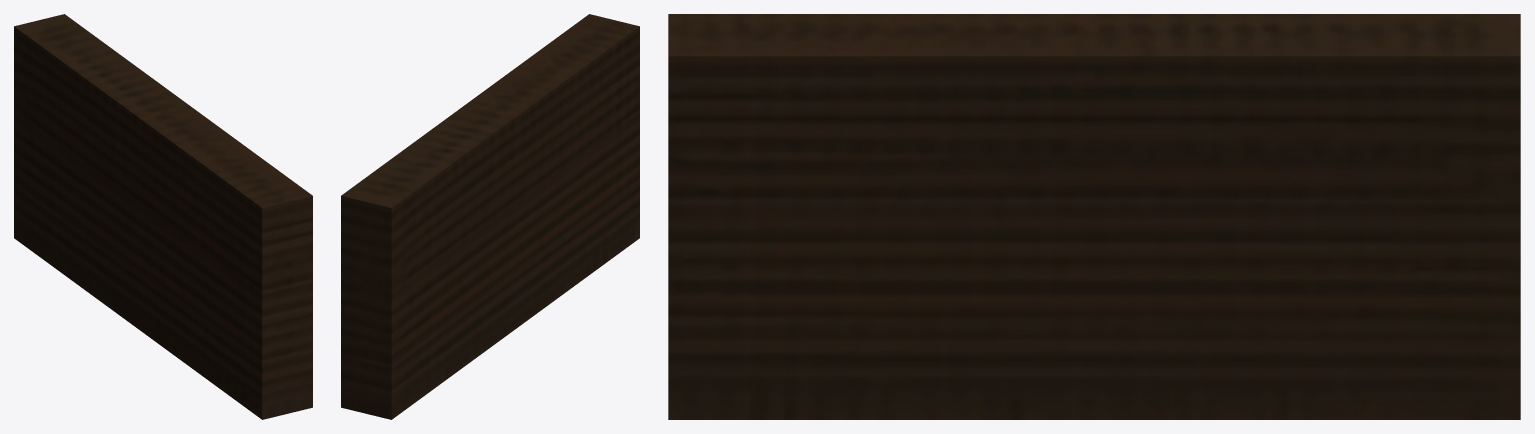
The model's file is link_8__other_leaf-145.glb.
The picture shows the model from 3 angles, left to right: view 1: azimuth 30°, elevation 25°; view 2: azimuth 150°, elevation 25°; view 3: azimuth 270°, elevation 25°; orthographic projection. The views are drawn at different scales.
Visible parts, largest first — view 1: world; view 2: world; view 3: world.
Boxes of the visible parts, x1,y1,x2,y2 form: world: [14, 14, 312, 419]; world: [341, 14, 639, 419]; world: [668, 14, 1520, 419].
Bounding box in the file's own units: 0.021 × 0.084 × 0.1785.
Materials: 1 (1 with a texture image).
